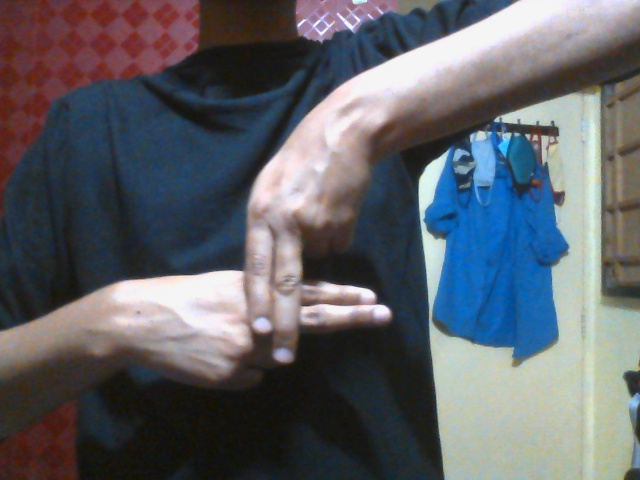F: (133, 140, 393, 394)
